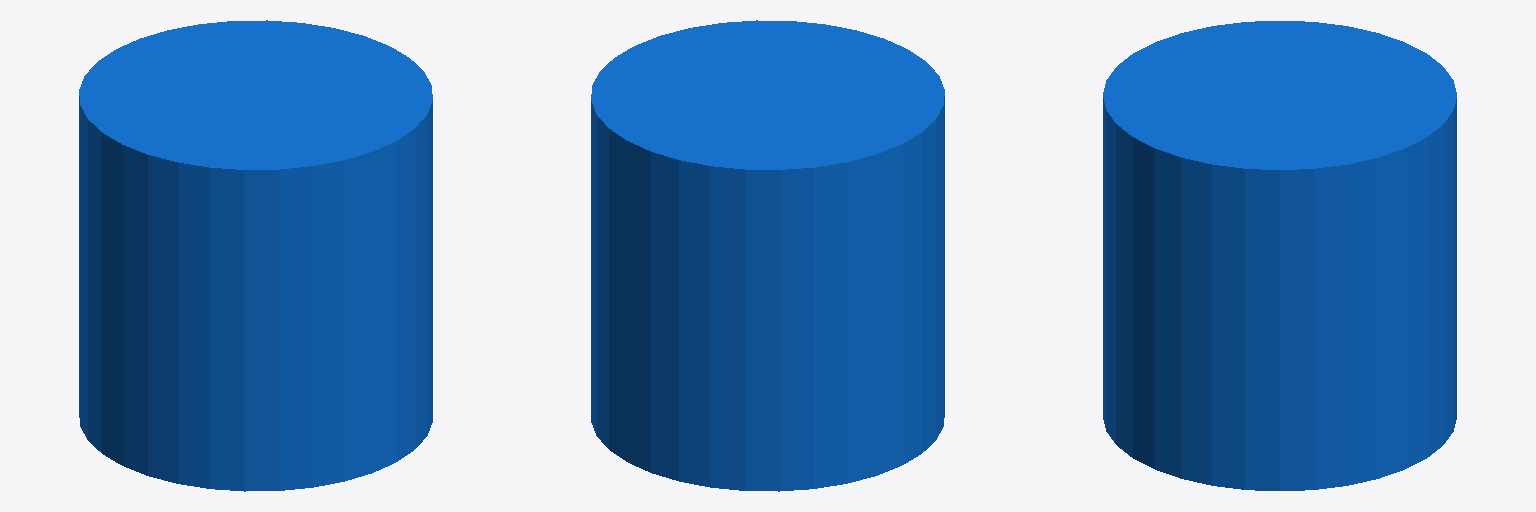
URDF robot description (blue_can):
<robot name="blue_can">

` <link name="can">
    <inertial>
      <mass value="0.1"/>
      <inertia ixx="1.0" ixy="0.0" ixz="0.0" iyy="1.0" iyz="0.0" izz="1.0"/>
    </inertial>
    <visual>
      <origin rpy="0 0 0" xyz="0 0 0"/>
      <geometry>
        <cylinder length="0.1" radius="0.05"/>
      </geometry>
      <material name = "blue">
        <color rgba="0.1 0.5 0.9 1"/>
      </material>
    </visual>
    <collision>
      <origin rpy="0 0 0" xyz="0 0 0"/>
      <geometry>
        <cylinder length="0.1" radius="0.05"/>
      </geometry>
    </collision>
  </link>

</robot>

--- What the picture shows (computed from the rendered views, not written in the file) ---
3 views of the same robot in one strip: view 1: azimuth 30°, elevation 25°; view 2: azimuth 150°, elevation 25°; view 3: azimuth 270°, elevation 25° (orthographic).
Robot: blue_can — 1 links, 0 joints (none); root link can; default pose: every joint at zero.
Links seen in each view (by area): view 1: can; view 2: can; view 3: can.
Link boxes in pixels (x1=…): can: x1=79, y1=20, x2=432, y2=491; can: x1=591, y1=20, x2=944, y2=491; can: x1=1103, y1=21, x2=1456, y2=490.
Bounding box of the posed robot: 0.1 × 0.1 × 0.1 m (x, y, z).
Geometry: primitives only (box / cylinder / sphere), no mesh files.